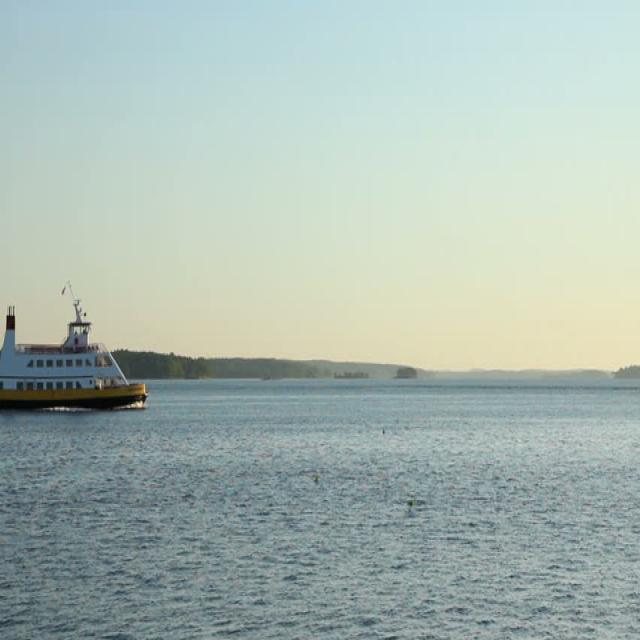passenger ship: (2, 310, 162, 430)
